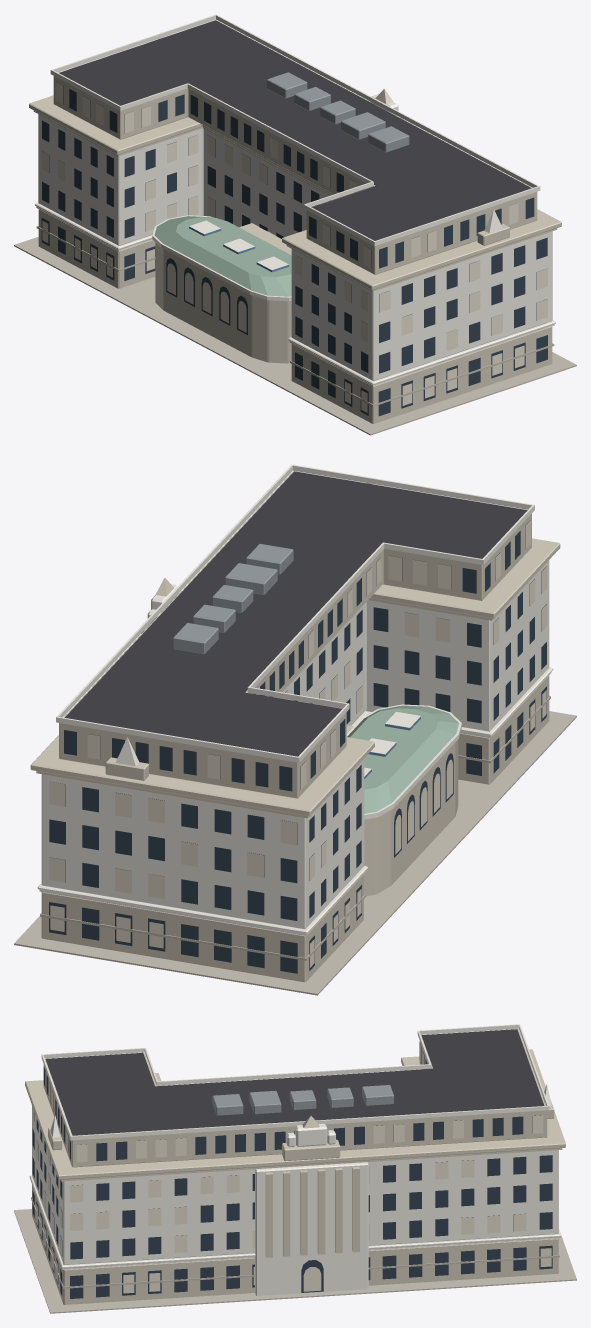
File: us-customs-house.glb
The picture shows the model from 3 angles, top to bottom: view 1: azimuth 30°, elevation 25°; view 2: azimuth 150°, elevation 25°; view 3: azimuth 270°, elevation 25°; orthographic projection. The views are drawn at different scales.
Parts seen in each view (by area): view 1: us-customs-house_body, us-customs-house_night_glow; view 2: us-customs-house_body, us-customs-house_night_glow; view 3: us-customs-house_body, us-customs-house_night_glow.
Part boxes in pixels (bbox=[...]): us-customs-house_body: bbox=[14, 14, 576, 435]; us-customs-house_night_glow: bbox=[41, 82, 547, 412]; us-customs-house_body: bbox=[14, 464, 576, 995]; us-customs-house_night_glow: bbox=[49, 520, 547, 967]; us-customs-house_body: bbox=[14, 1024, 576, 1313]; us-customs-house_night_glow: bbox=[32, 1042, 551, 1293].
Size of the model in its own units: 50.82 by 30.46 by 89.01.
